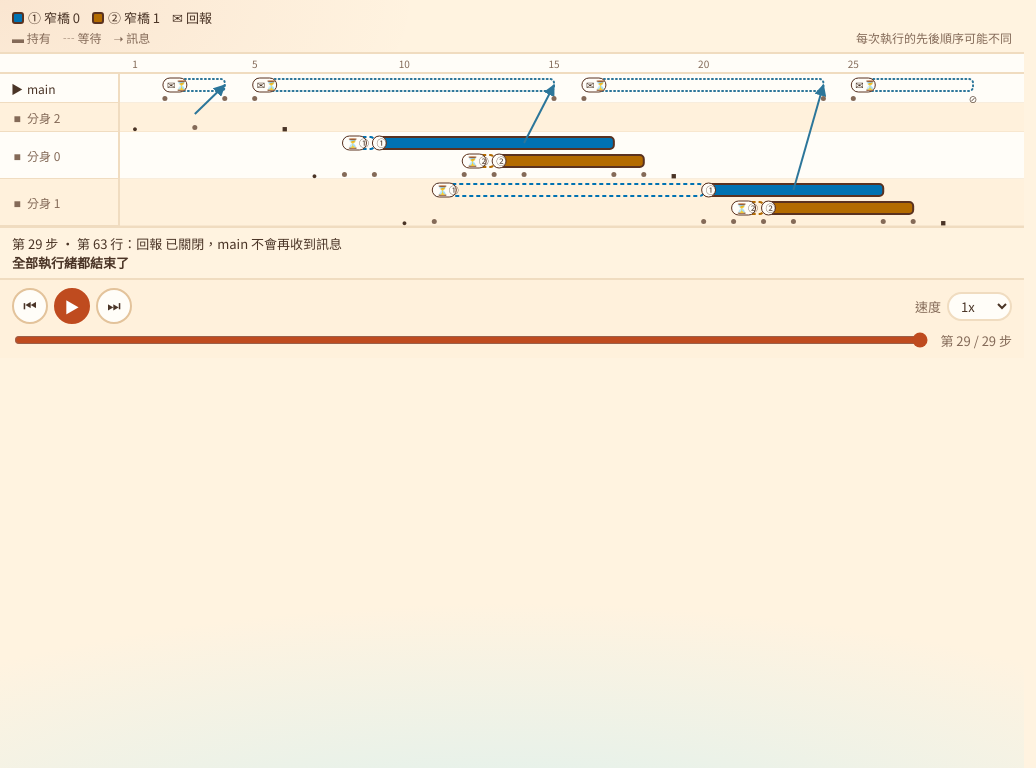
Test: S2-3 TimelineView（ux §11） › 自動播放與播放控制 › 從頭回到第 0 步：泳道仍在、沒有任何區段
Click the button named "從頭": (30, 306) [12,288,48,324]
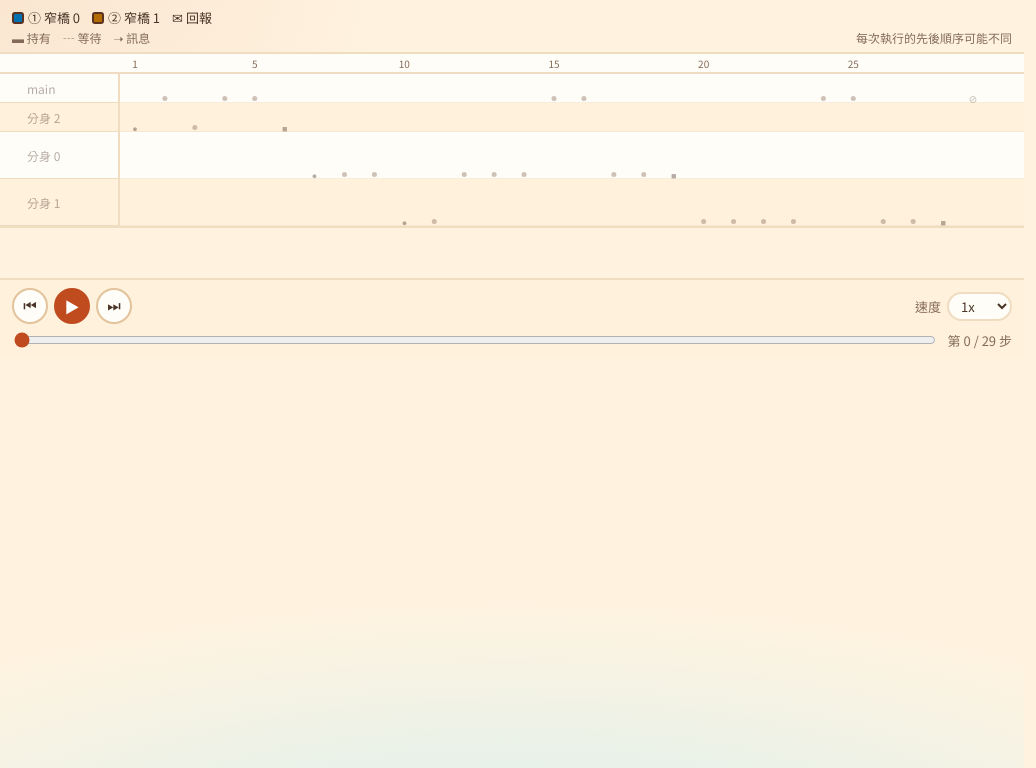
Check: the text with test id "step-label" reads "第 0 / 29 步", box [948,330,1012,350]
